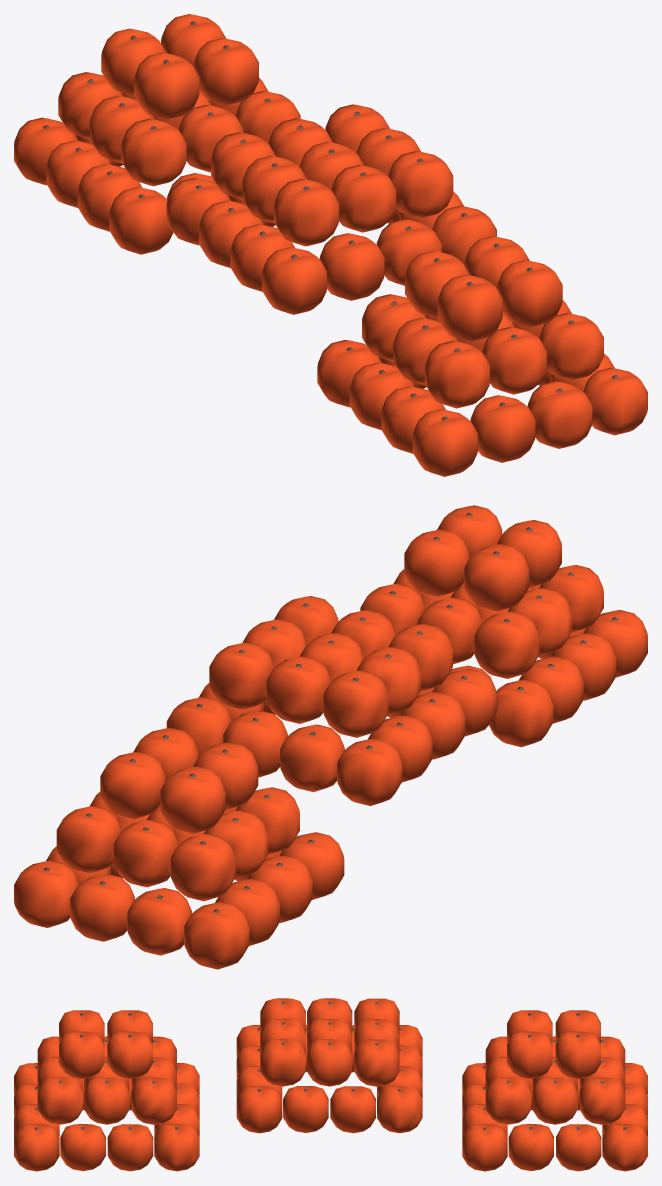
The model's file is SmoothPeachPile.obj.
3 views of the same model, one above another, from view 1: azimuth 30°, elevation 25°; view 2: azimuth 150°, elevation 25°; view 3: azimuth 270°, elevation 25° (orthographic). The views are drawn at different scales.
Parts seen in each view (by area): view 1: peach_Roundcube.006; view 2: peach_Roundcube.006; view 3: peach_Roundcube.006.
Part boxes in pixels (box(x1,y1,x2,y2)): peach_Roundcube.006: box(14, 14, 647, 476); peach_Roundcube.006: box(14, 505, 647, 969); peach_Roundcube.006: box(14, 998, 647, 1171).
Bounding box in the file's own units: 38.05 × 25.17 × 125.
